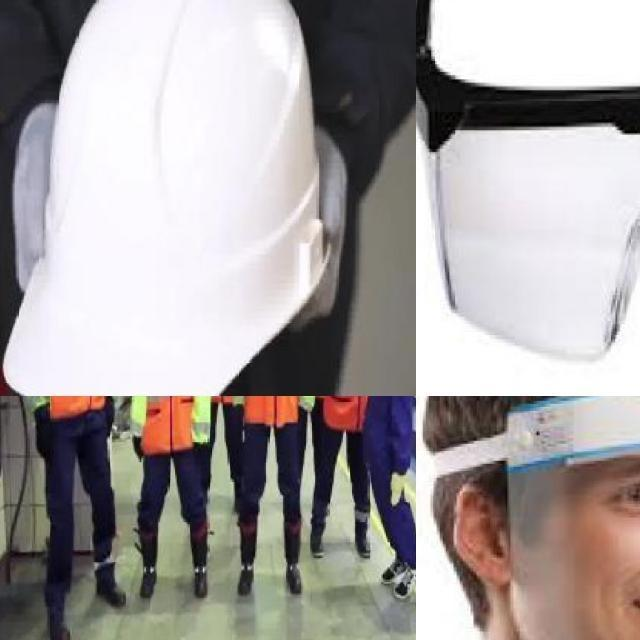apron: (34, 402, 52, 455), (104, 396, 115, 437), (192, 440, 208, 462), (232, 400, 244, 428), (131, 436, 144, 461)
